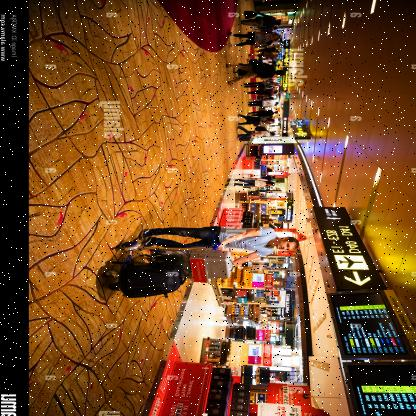airport-trolley: (94, 240, 232, 301)
